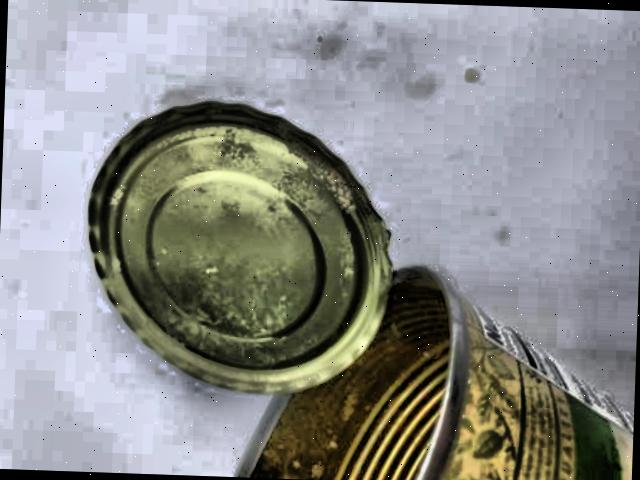Almennt: (59, 84, 640, 480)
